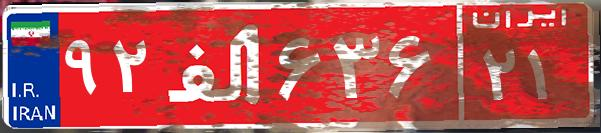1: (525, 38, 570, 115)
2: (475, 38, 525, 113), (110, 28, 158, 105)
3: (330, 28, 385, 110)
6: (385, 28, 445, 110), (273, 28, 330, 110)
9: (57, 26, 110, 107)
الف: (158, 15, 273, 115)
